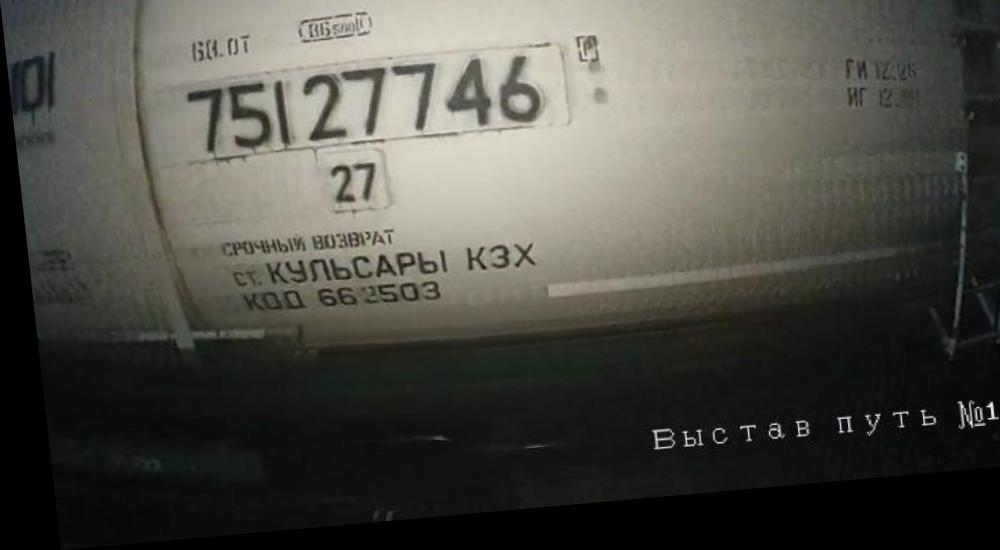Wagon-number: (177, 56, 546, 163)
